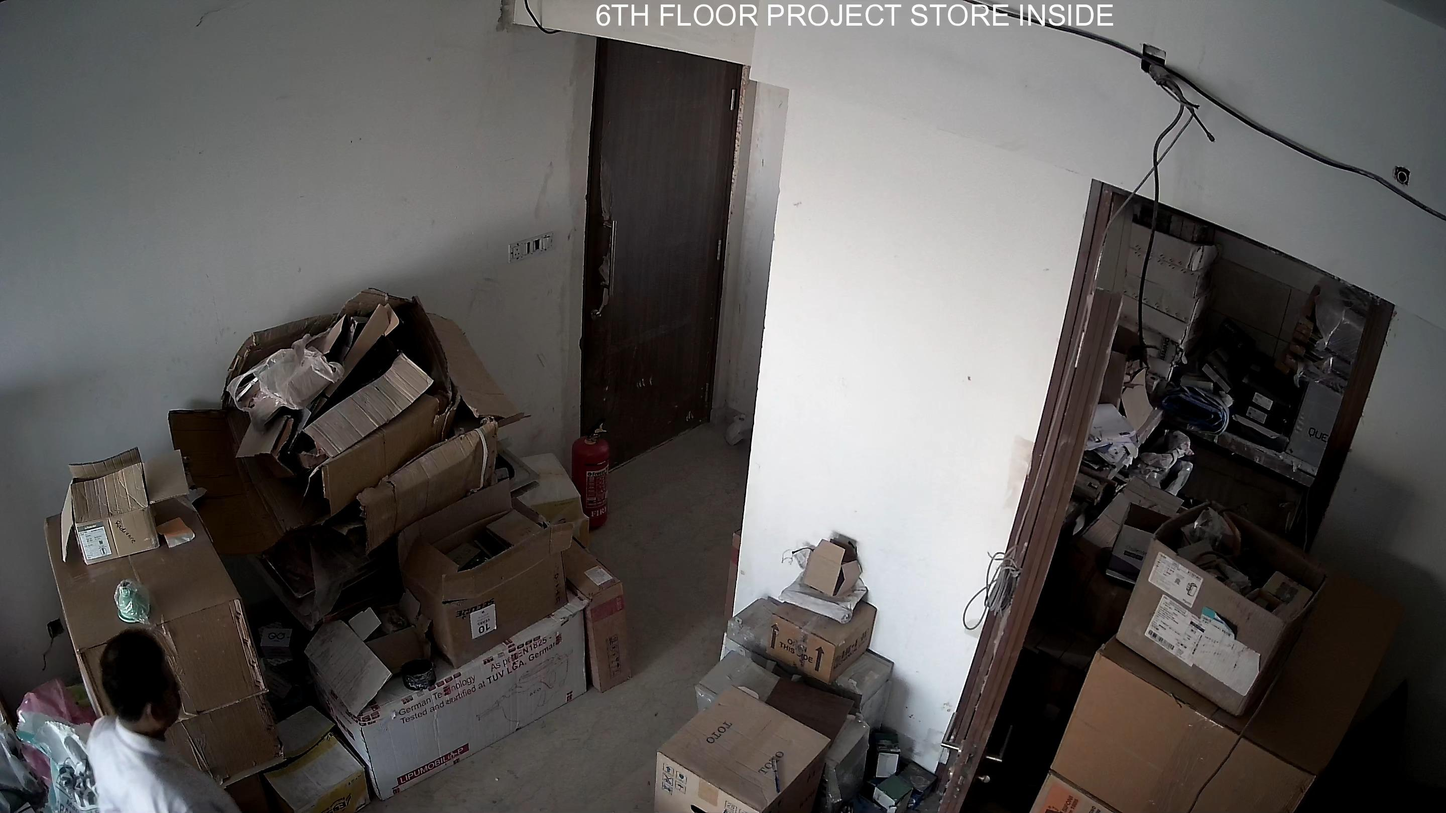Door-Close: (580, 29, 739, 468)
